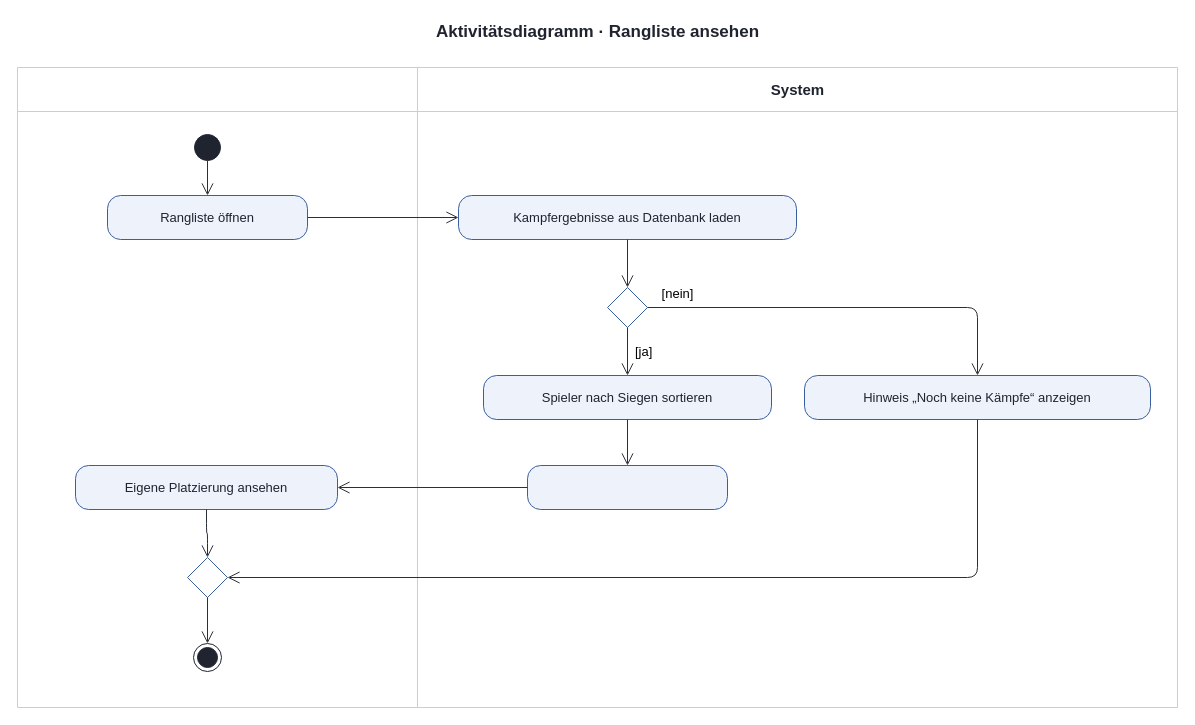
The diagram is 1195 pixels wide and 725 high, and some of its shapes have lost their labels. Here are the shapes that lost their labels. From the top down, the box of each, then its label:
(606, 286, 648, 328): Ergebnisse vorhanden?
(16, 66, 418, 708): Spieler
(526, 464, 728, 510): Rangliste anzeigen
